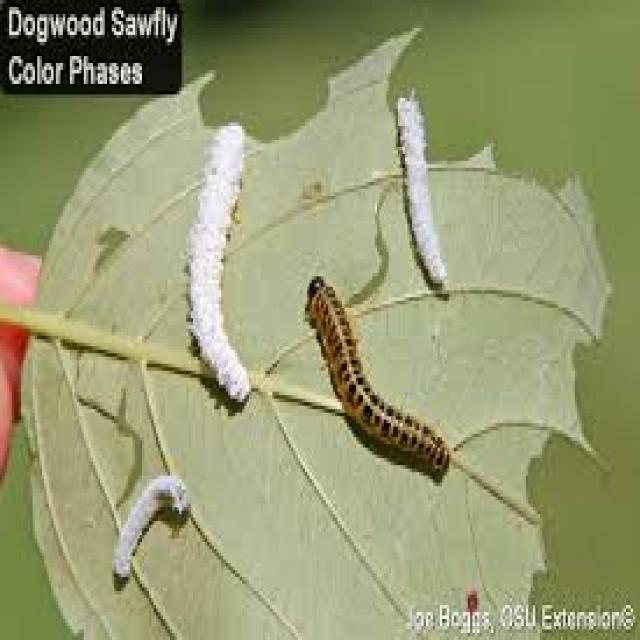Saw Fly: (302, 274, 451, 484), (184, 116, 257, 415), (386, 90, 459, 302), (105, 465, 189, 589)
